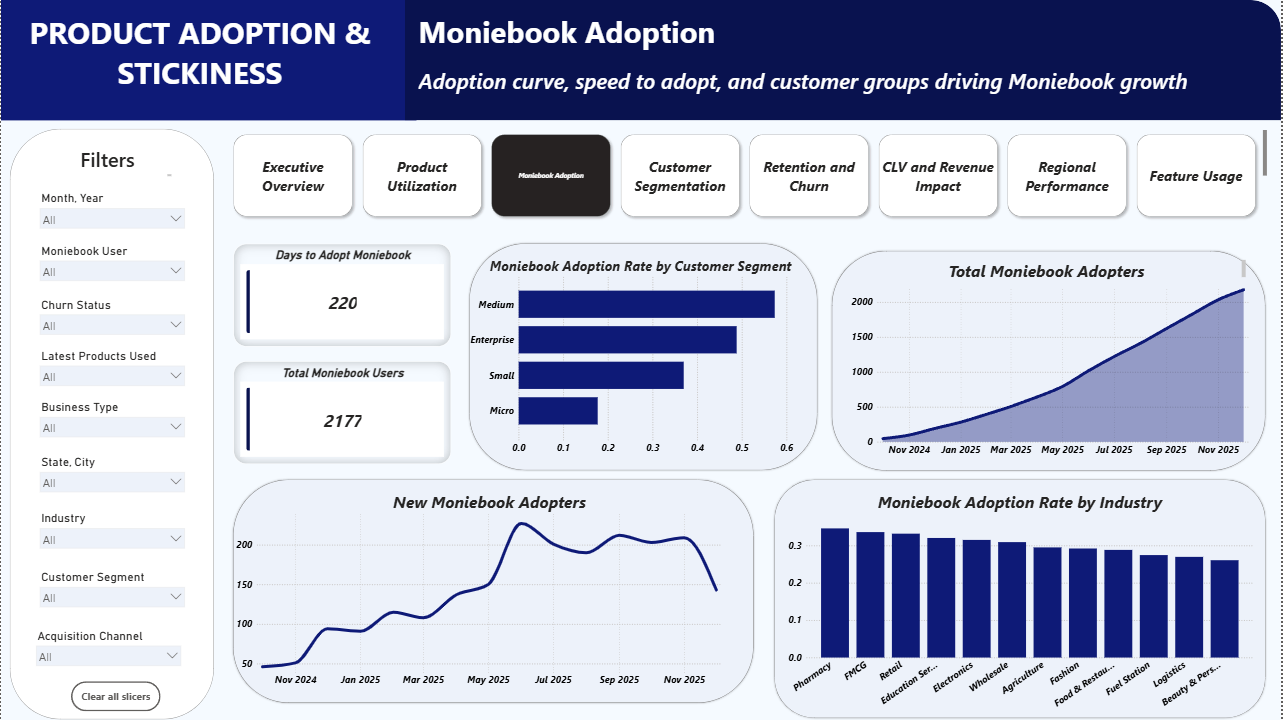

The page's visual inventory and layout, read from the dashboard file:
{"tool":"powerbi","page":{"name":"Moniebook Adoption","canvas":[2560,1440],"ordinal":2},"visuals":[{"type":"cardVisual","title":"Total Moniebook Users","fields":{"Data":["Sum(pbi_customer_360.Is_Moniebook_User)"]},"box":[464.7,721.5,435.3,205.4],"z":0},{"type":"shape","box":[1543.2,953.8,990.5,485.4],"z":0,"group":"g2"},{"type":"shape","box":[17.1,258.7,408.4,1181.3],"z":1000,"group":"g7"},{"type":"cardVisual","title":"Days to Adopt Moniebook","fields":{"Data":["pbi_customer_360.Avg Days to Adopt Moniebook"]},"box":[464.7,486.7,435.3,205.4],"z":1000},{"type":"shape","box":[459.8,953.8,1049.2,454.9],"z":1000,"group":"g3"},{"type":"group","id":"g1","title":"Group 1","box":[0,0,2560.6,242.1],"z":2000},{"type":"slicer","fields":{"Values":["pbi_customer_360.Month Name","pbi_customer_360.Year"]},"box":[67.2,379.7,310.2,104.1],"z":2000,"group":"g7"},{"type":"group","id":"g2","title":"Group 4","box":[1543.2,953.8,988,486.7],"z":3000},{"type":"slicer","fields":{"Values":["pbi_customer_360.Customer_Segment"]},"box":[67.2,1135,309.8,93],"z":3000,"group":"g7"},{"type":"group","id":"g3","title":"Group 5","box":[459.8,953.8,1049.2,454.9],"z":4000},{"type":"lineChart","fields":{"Category":["pbi_monthly_moniebook_adoption.Adoption_Month.Variation.Date Hierarchy.Year","pbi_monthly_moniebook_adoption.Adoption_Month.Variation.Date Hierarchy.Month"],"Y":["Sum(pbi_monthly_moniebook_adoption.New_Moniebook_Adopters)"]},"box":[464.3,1010.5,1012.8,369.9],"z":4000,"group":"g3"},{"type":"slicer","fields":{"Values":["pbi_customer_360.Industry"]},"box":[67.2,1018.8,309.8,93],"z":4000,"group":"g7"},{"type":"group","id":"g4","title":"Group 6","box":[1658.2,496.5,875.5,447.6],"z":5000},{"type":"slicer","fields":{"Values":["pbi_customer_360.State","pbi_customer_360.City"]},"box":[67.2,906.8,309.8,93],"z":5000,"group":"g7"},{"type":"clusteredColumnChart","fields":{"Category":["pbi_customer_360.Industry"],"Y":["pbi_customer_360.Moniebook Adoption Rate"]},"box":[1564.9,1039.8,944.5,389.3],"z":5000,"group":"g2"},{"type":"group","id":"g5","title":"Group 7","box":[932.3,481.5,704.4,462.2],"z":6000},{"type":"slicer","fields":{"Values":["pbi_customer_360.Business_Type"]},"box":[67.2,796.1,309.8,93],"z":6000,"group":"g7"},{"type":"group","id":"g6","title":"Group 3","box":[17.1,258.7,408.4,1181.3],"z":7000},{"type":"slicer","fields":{"Values":["pbi_customer_360.Acquisition_Channel"]},"box":[59.5,1253.6,309.8,93],"z":7000,"group":"g7"},{"type":"pageNavigator","box":[454.9,259.2,2077.5,183.9],"z":8000},{"type":"slicer","fields":{"Values":["pbi_customer_360.Latest_Products_Used"]},"box":[67.2,692.6,309.8,93],"z":8000,"group":"g7"},{"type":"slicer","fields":{"Values":["pbi_customer_360.Moniebook user YES/NO"]},"box":[67.2,483.8,309.8,93],"z":9000,"group":"g7"},{"type":"shape","box":[1658.2,496.5,875.4,447.9],"z":9000,"group":"g4"},{"type":"areaChart","fields":{"Category":["pbi_monthly_moniebook_adoption.Adoption_Month"],"Y":["Sum(pbi_monthly_moniebook_adoption.Cumulative_Moniebook_Adopters)"]},"box":[1696.1,561.1,837.5,360.4],"z":10000,"group":"g4"},{"type":"slicer","fields":{"Values":["pbi_customer_360.Churn_Status"]},"box":[67.2,590.3,309.8,93],"z":10000,"group":"g7"},{"type":"shape","box":[932.3,481.5,704.4,462.2],"z":11000,"group":"g5"},{"type":"clusteredBarChart","fields":{"Category":["pbi_customer_360.Customer_Segment"],"Y":["pbi_customer_360.Moniebook Adoption Rate"]},"box":[932.3,540.1,657.9,378],"z":12000,"group":"g5"},{"type":"textbox","box":[969,506,618.8,78.3],"z":13000,"group":"g5"},{"type":"textbox","box":[1696.1,513.2,799.6,47.9],"z":14000,"group":"g4"},{"type":"group","id":"g7","title":"Group 2","box":[17.1,258.7,408.4,1181.3],"z":15000,"group":"g6"},{"type":"textbox","box":[481.9,975.1,989.1,59.2],"z":15000,"group":"g3"},{"type":"textbox","box":[1543.2,976.6,990.5,63.2],"z":16000,"group":"g2"},{"type":"actionButton","box":[139.3,1363.6,179.2,60.3],"z":16000,"group":"g6"},{"type":"shape","box":[0,0,830.4,241.2],"z":18000,"group":"g1"},{"type":"shape","box":[808.2,1,1752.4,241.2],"z":20000,"group":"g1"},{"type":"textbox","title":"PRODUCT ADOPTION & STICKINESS","box":[8.3,21.9,780.4,197.3],"z":21000,"group":"g1"},{"type":"textbox","title":"Moniebook Adoption","box":[830.4,21.9,677.6,147.2],"z":22000,"group":"g1"},{"type":"textbox","title":"Adoption curve, speed to adopt, and customer groups driving Moniebook growth","box":[830.4,131.5,1577.5,109.6],"z":23000,"group":"g1"},{"type":"textbox","title":"Filters","box":[80.7,290.2,265.9,67.8],"z":24000,"group":"g7"}]}

Visuals, with their boxes in screenshot pixels (x1, y1, x2, y2), scaled from the page's 2560x1440 canvas onto the 1283x720 screenshot:
"Total Moniebook Users" cardVisual: select_region(233, 361, 451, 463)
shape: select_region(773, 477, 1270, 719)
shape: select_region(9, 129, 213, 719)
"Days to Adopt Moniebook" cardVisual: select_region(233, 243, 451, 346)
shape: select_region(230, 477, 756, 704)
"Group 1" group: select_region(0, 0, 1282, 121)
slicer - pbi_customer_360.Month Name x pbi_customer_360.Year: select_region(34, 190, 189, 242)
"Group 4" group: select_region(773, 477, 1269, 719)
slicer - pbi_customer_360.Customer_Segment: select_region(34, 568, 189, 614)
"Group 5" group: select_region(230, 477, 756, 704)
lineChart - pbi_monthly_moniebook_adoption.Adoption_Month.Variation.Date Hierarchy.Year x pbi_monthly_moniebook_adoption.Adoption_Month.Variation.Date Hierarchy.Month: select_region(233, 505, 740, 690)
slicer - pbi_customer_360.Industry: select_region(34, 509, 189, 556)
"Group 6" group: select_region(831, 248, 1270, 472)
slicer - pbi_customer_360.State x pbi_customer_360.City: select_region(34, 453, 189, 500)
clusteredColumnChart - pbi_customer_360.Industry x pbi_customer_360.Moniebook Adoption Rate: select_region(784, 520, 1258, 715)
"Group 7" group: select_region(467, 241, 820, 472)
slicer - pbi_customer_360.Business_Type: select_region(34, 398, 189, 445)
"Group 3" group: select_region(9, 129, 213, 719)
slicer - pbi_customer_360.Acquisition_Channel: select_region(30, 627, 185, 673)
pageNavigator: select_region(228, 130, 1269, 222)
slicer - pbi_customer_360.Latest_Products_Used: select_region(34, 346, 189, 393)
slicer - pbi_customer_360.Moniebook user YES/NO: select_region(34, 242, 189, 288)
shape: select_region(831, 248, 1270, 472)
areaChart - pbi_monthly_moniebook_adoption.Adoption_Month x Sum(pbi_monthly_moniebook_adoption.Cumulative_Moniebook_Adopters): select_region(850, 281, 1270, 461)
slicer - pbi_customer_360.Churn_Status: select_region(34, 295, 189, 342)
shape: select_region(467, 241, 820, 472)
clusteredBarChart - pbi_customer_360.Customer_Segment x pbi_customer_360.Moniebook Adoption Rate: select_region(467, 270, 797, 459)
textbox: select_region(486, 253, 796, 292)
textbox: select_region(850, 257, 1251, 281)
"Group 2" group: select_region(9, 129, 213, 719)
textbox: select_region(242, 488, 737, 517)
textbox: select_region(773, 488, 1270, 520)
actionButton: select_region(70, 682, 160, 712)
shape: select_region(0, 0, 416, 121)
shape: select_region(405, 0, 1282, 121)
"PRODUCT ADOPTION & STICKINESS" textbox: select_region(4, 11, 395, 110)
"Moniebook Adoption" textbox: select_region(416, 11, 756, 85)
"Adoption curve, speed to adopt, and customer groups driving Moniebook growth" textbox: select_region(416, 66, 1207, 121)
"Filters" textbox: select_region(40, 145, 174, 179)
